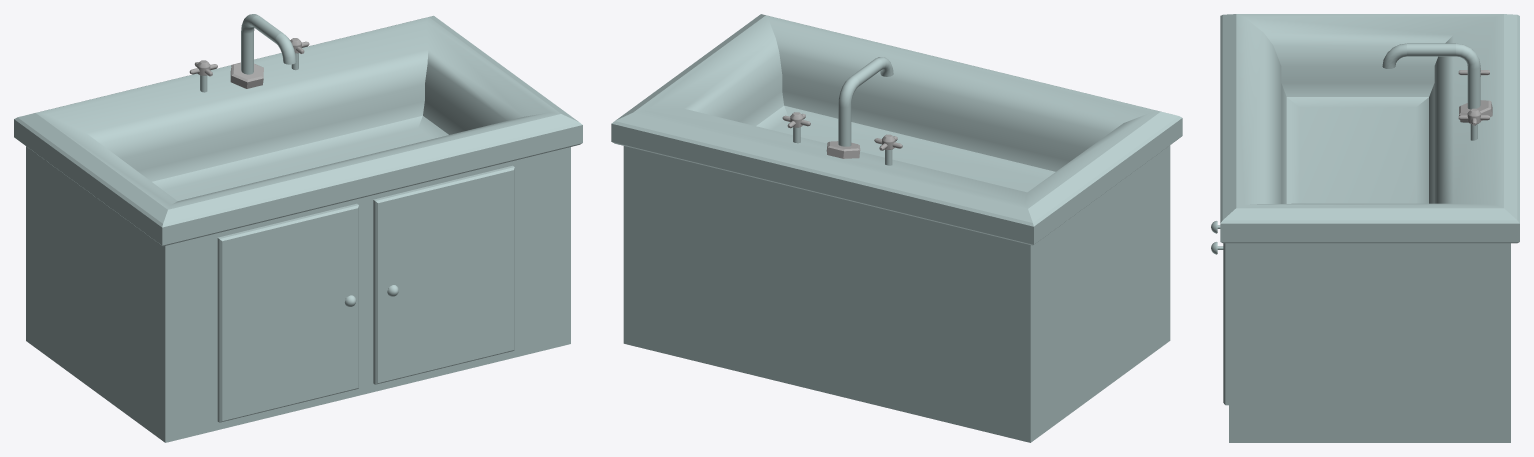
Rendered from kitchen sink.fbx.
3 renders of one model, left to right at view 1: azimuth 30°, elevation 25°; view 2: azimuth 150°, elevation 25°; view 3: azimuth 270°, elevation 25°, orthographic.
Parts seen in each view (by area): view 1: pCylinder131; view 2: pCylinder131; view 3: pCylinder131.
Part boxes in pixels (x1=…): pCylinder131: x1=14, y1=14, x2=582, y2=442; pCylinder131: x1=611, y1=14, x2=1182, y2=442; pCylinder131: x1=1211, y1=14, x2=1519, y2=442.
Size of the model in its own units: 545 by 366 by 343.
